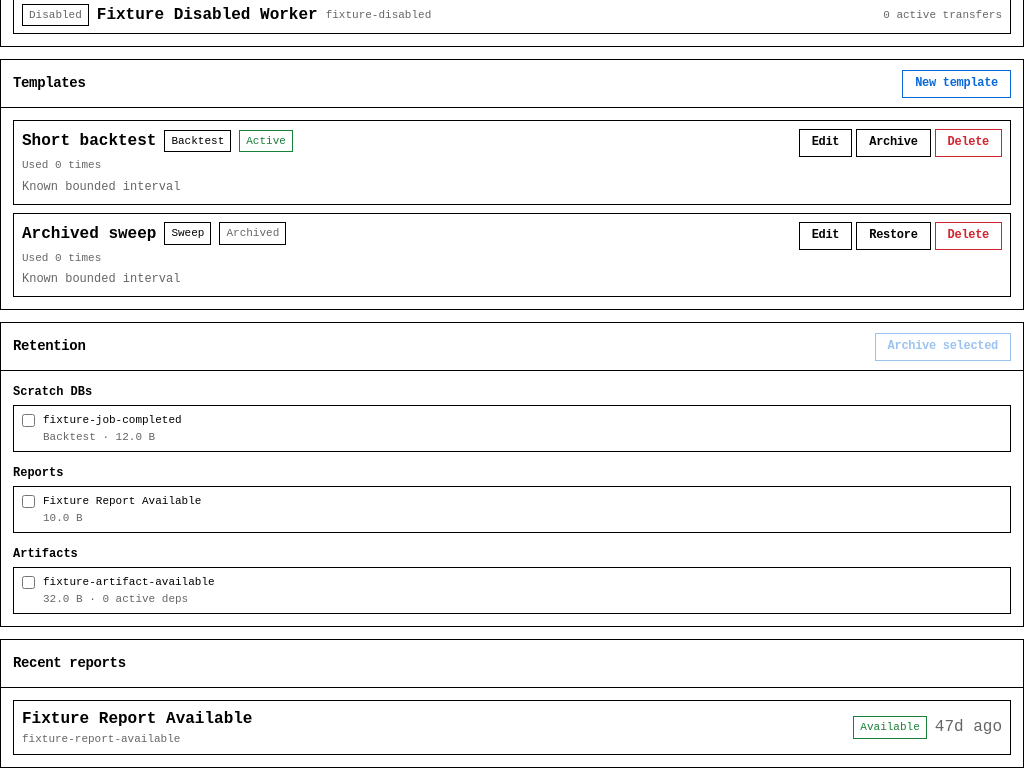
Test: ResearchOverviewPage › archives selected retention candidates without selecting unrelated metadata
(page scrolled)
Click the checkbox labelled "fixture-job-completed Backtest · 12.0 B".
click(28, 420)  # box [22,414,35,427]
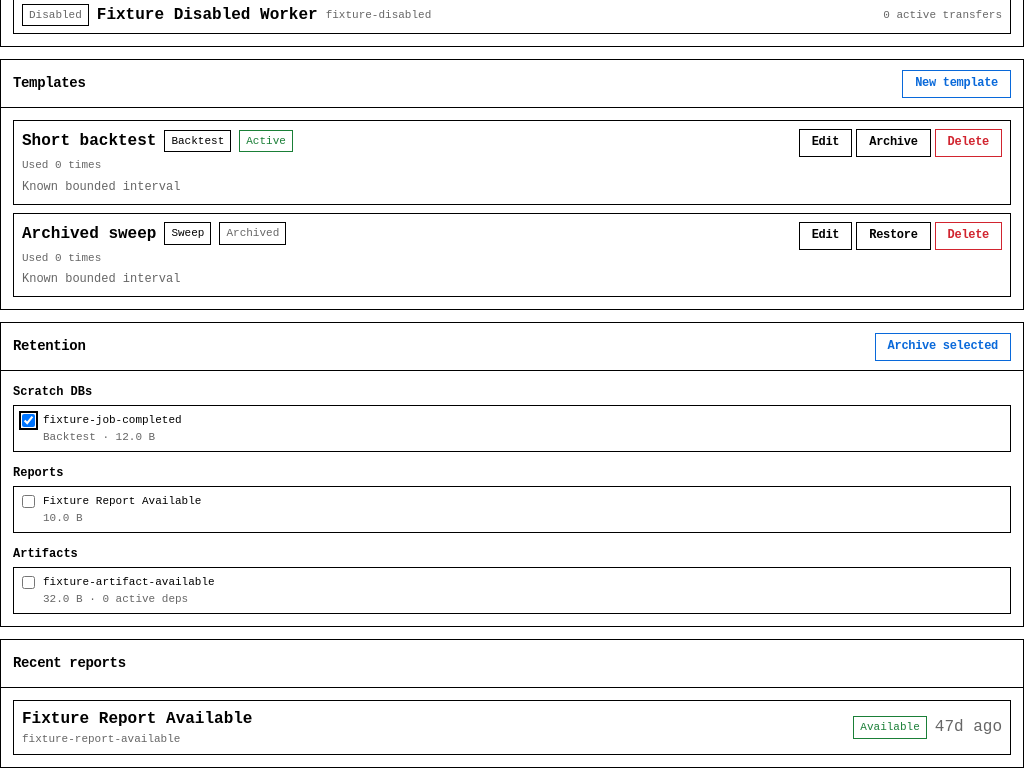
Click the button "Archive selected".
click(943, 346)  # box [875,332,1011,360]
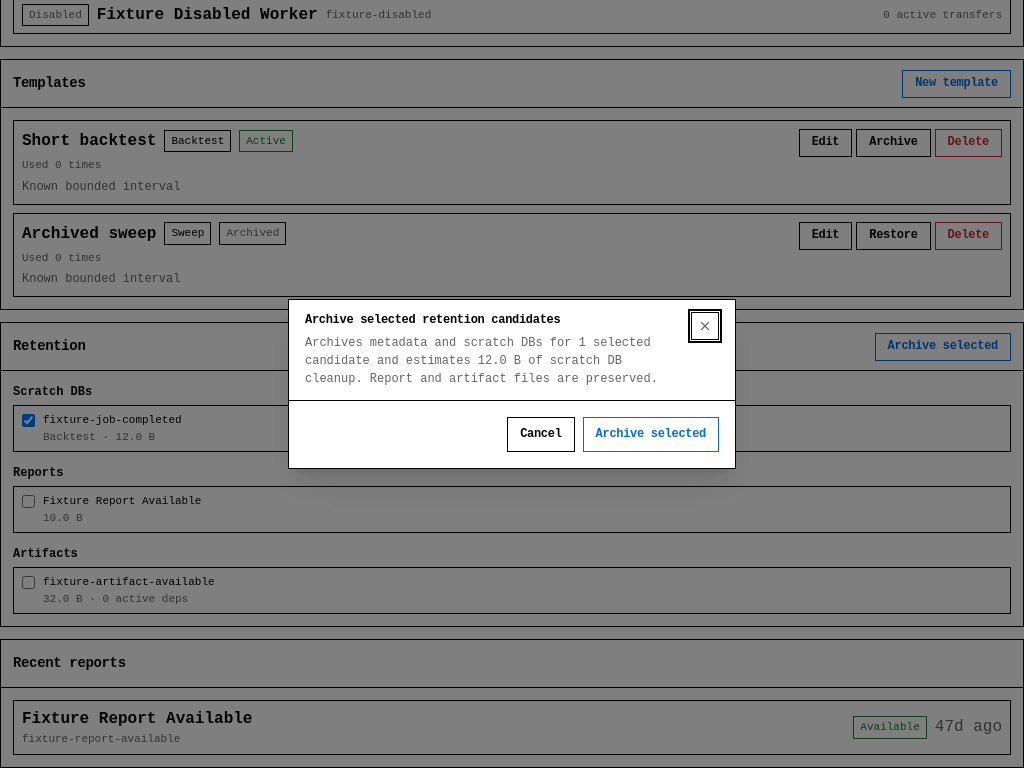
Click the button "Archive selected".
click(651, 434)  # box [583,416,719,452]
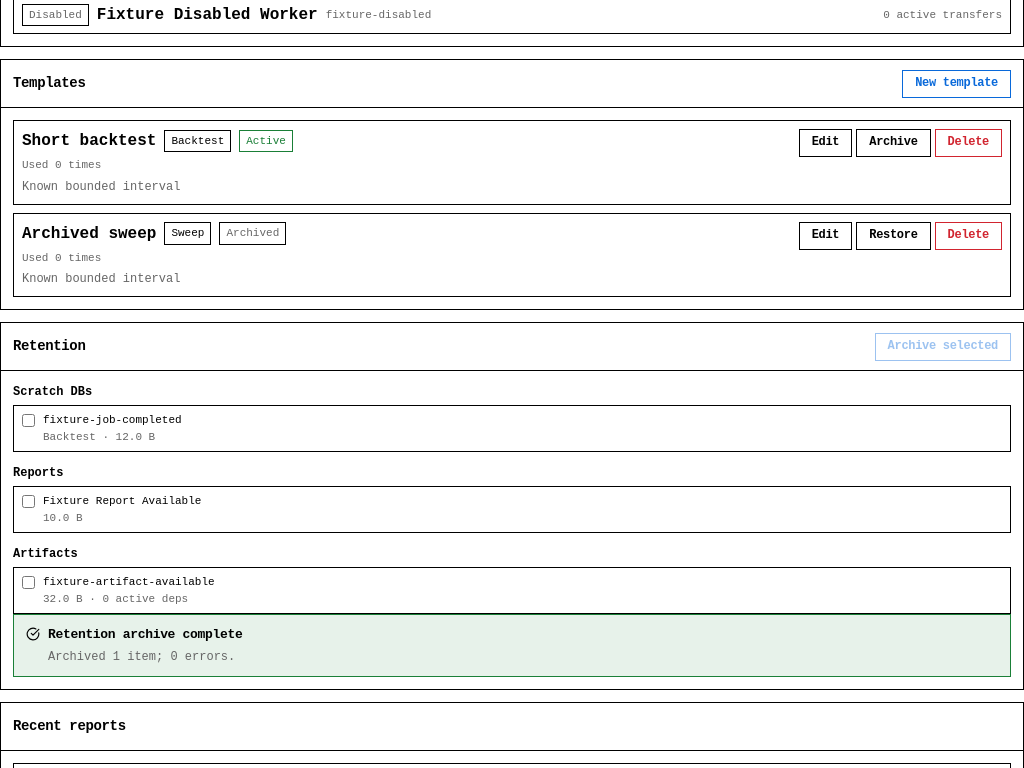
Check: the text "Retention archive complete" is shown, box [48,627,242,642]
